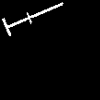double_crochet: (2, 3, 62, 35)
